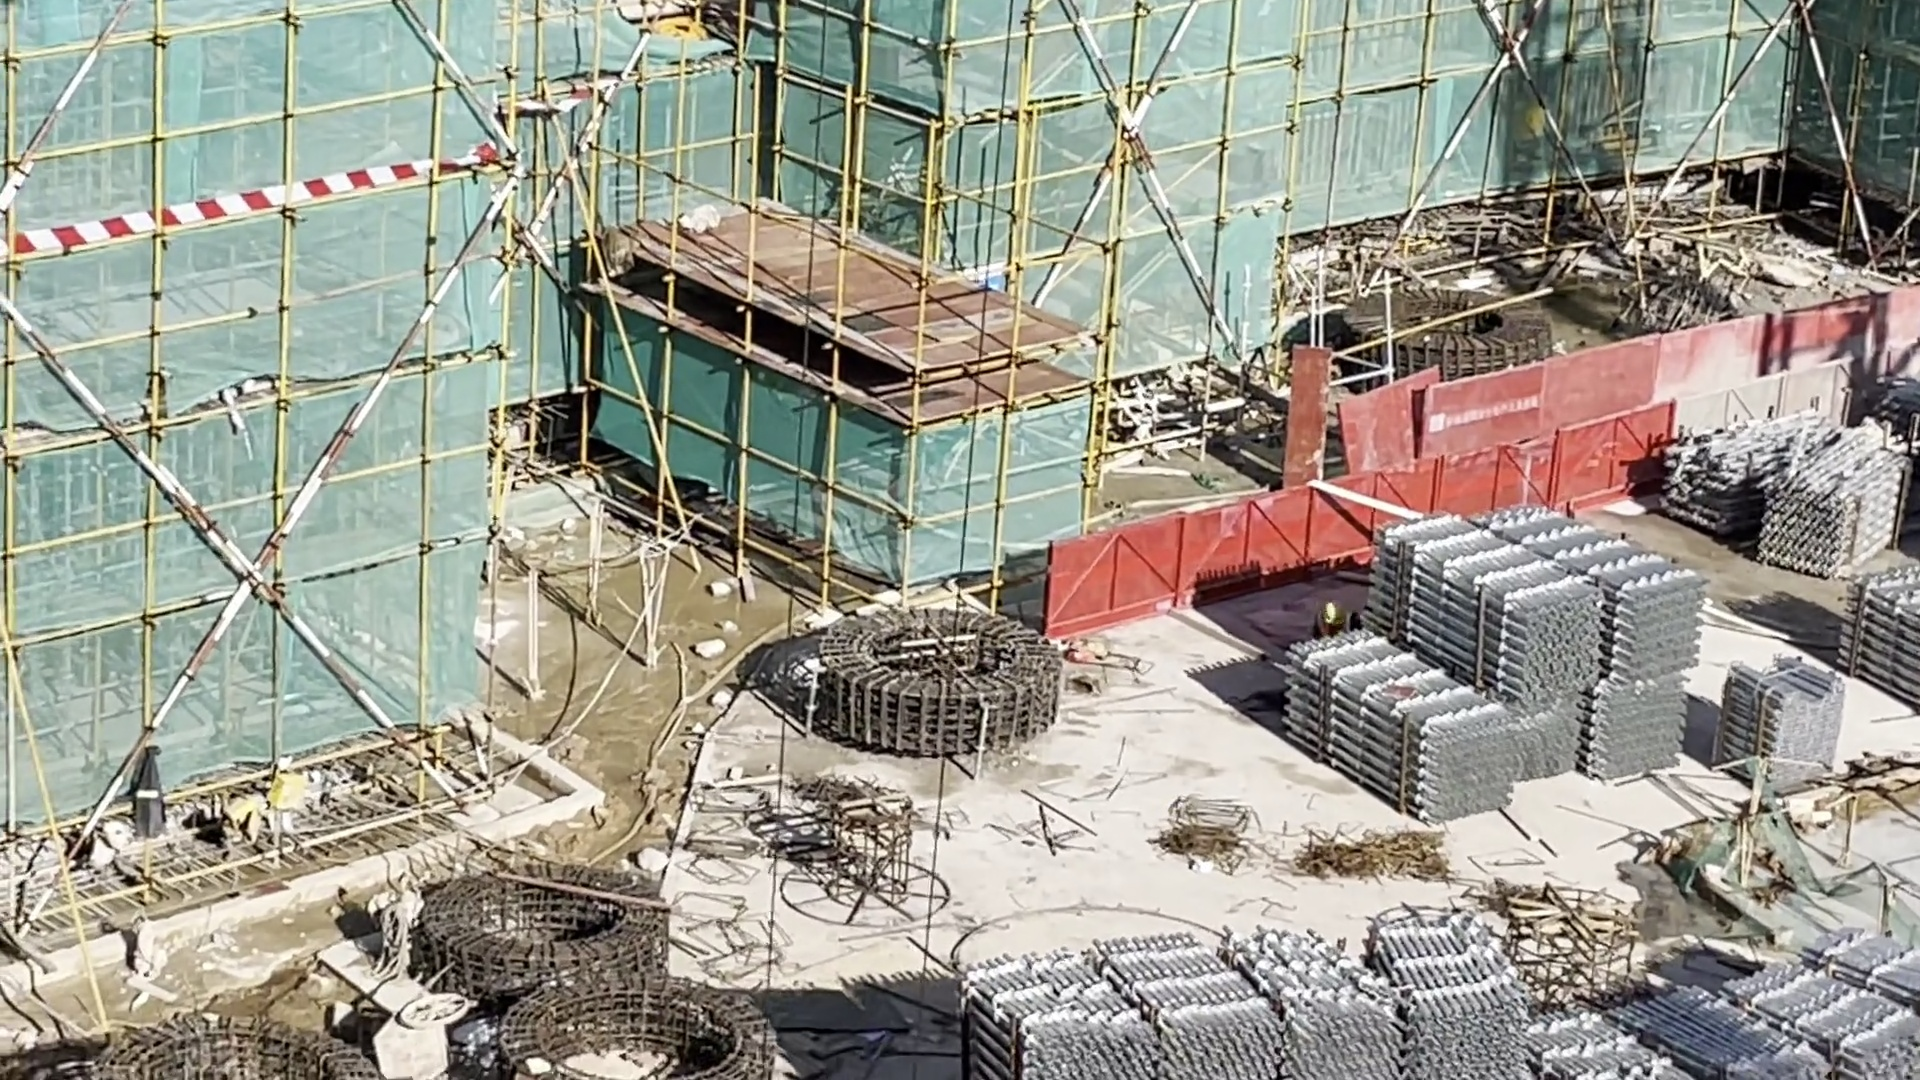fence: (1048, 343, 1920, 636)
helmet: (1315, 596, 1349, 626)
scaffold: (1265, 496, 1706, 824), (980, 906, 1491, 1080), (1553, 938, 1920, 1080), (1650, 415, 1920, 570), (1725, 658, 1840, 785), (1832, 572, 1920, 702)
